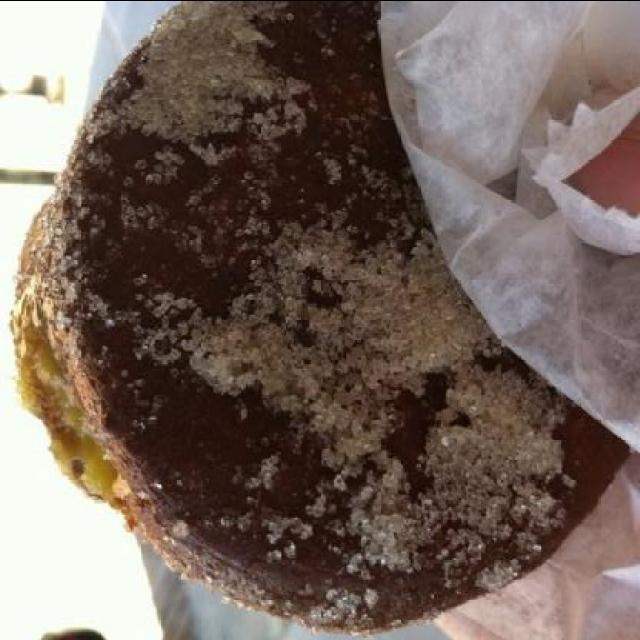Donuts: (8, 1, 600, 633)
